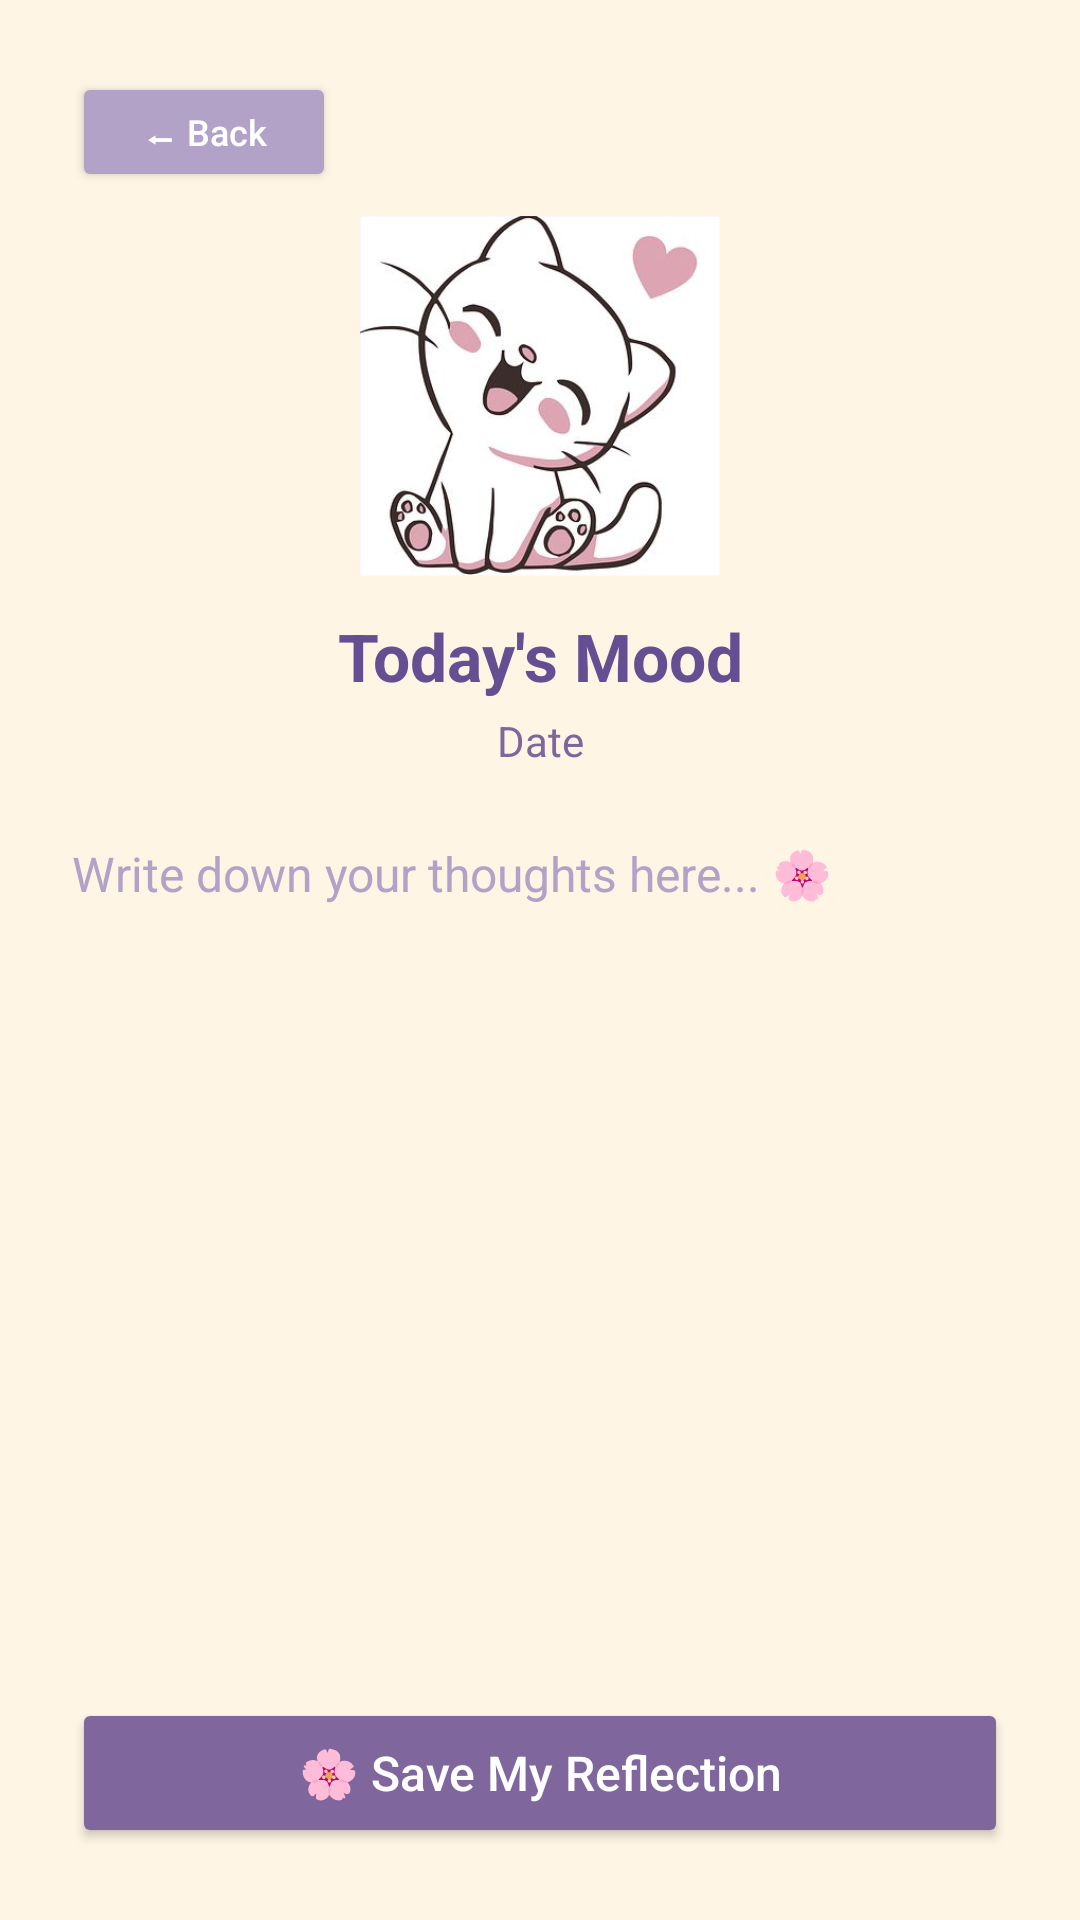

Screen size 1080px×1920px. Icon name, then its center in pixels as point (x, y):
happy kitty: point (539, 396)
